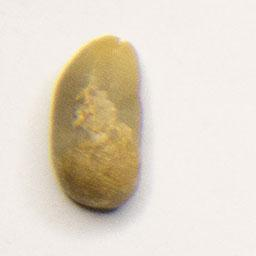longberry: (47, 30, 147, 215)
